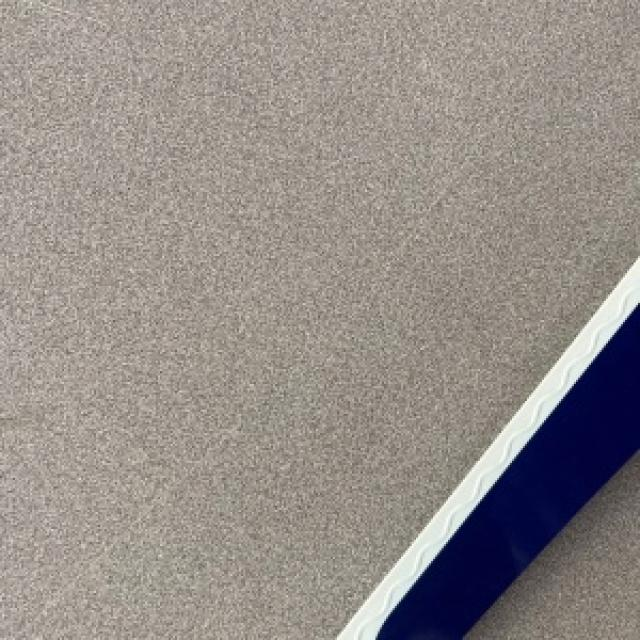healthy: (282, 0, 638, 634), (337, 256, 638, 638), (471, 459, 638, 638)
